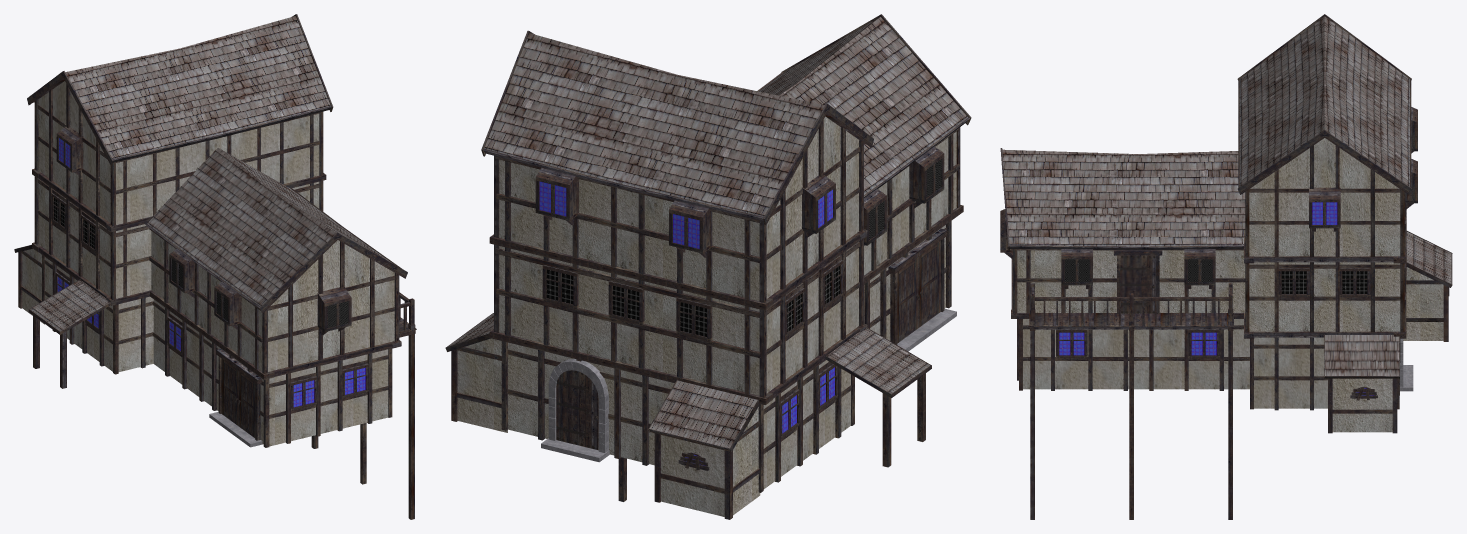
The model's file is thouse07.dae.
The picture shows the model from 3 angles, left to right: view 1: azimuth 30°, elevation 25°; view 2: azimuth 150°, elevation 25°; view 3: azimuth 270°, elevation 25°; orthographic projection. The views are drawn at different scales.
Visible parts, largest first — view 1: House2_Roof, House1_Roof, House1_Level2, House2_Level3, House1_Level1, House2_Level3_Beams, House1_Level2_Beams, House2_Level2, House1_Level1_Beams, House2_Level1, House2_Level2_Beams, House2_Level1_Beams (+19 smaller); view 2: House2_Roof, House2_Level3, House2_Level2, House1_Roof, House2_Level2_Beams, House2_Level1, House2_Level3_Beams, House2_Level1_Beams, BuildingExtensions4_001, BuildingExtensions4Roof_001, Roof2Outer, BuildingExtensions4 (+34 smaller); view 3: House1_Roof, House2_Roof, House2_Level3, House1_Level1, House1_Level2, House2_Level2, House2_Level1, House2_Level2_Beams, House2_Level3_Beams, BuildingExtensions4Roof, Balcony4, House1_Level1_Beams (+30 smaller).
Boxes of the visible parts, x1,y1,x2,y2 form: House2_Roof: (65, 16, 330, 159); House1_Roof: (147, 148, 393, 306); House1_Level2: (151, 231, 394, 371); House2_Level3: (38, 81, 319, 224); House1_Level1: (153, 299, 388, 446); House2_Level3_Beams: (34, 84, 323, 226); House1_Level2_Beams: (149, 228, 399, 373); House2_Level2: (38, 179, 319, 298); House1_Level1_Beams: (153, 301, 392, 447); House2_Level1: (45, 257, 153, 371); House2_Level2_Beams: (34, 176, 323, 299); House2_Level1_Beams: (42, 255, 152, 374); House2_Roof: (484, 33, 824, 216); House2_Level3: (499, 116, 859, 301); House2_Level2: (499, 242, 858, 395); House1_Roof: (759, 17, 967, 194); House2_Level2_Beams: (494, 239, 863, 397); House2_Level1: (508, 342, 850, 489); House2_Level3_Beams: (494, 120, 863, 302); House2_Level1_Beams: (501, 341, 854, 492); BuildingExtensions4_001: (661, 407, 760, 516); BuildingExtensions4Roof_001: (649, 380, 757, 448); Roof2Outer: (827, 328, 929, 393); BuildingExtensions4: (457, 338, 507, 432); House1_Roof: (1002, 149, 1245, 246); House2_Roof: (1239, 16, 1409, 186); House2_Level3: (1249, 138, 1400, 256); House1_Level1: (1023, 319, 1249, 389); House1_Level2: (1017, 250, 1245, 312); House2_Level2: (1249, 262, 1400, 331); House2_Level1: (1254, 337, 1327, 408); House2_Level2_Beams: (1245, 262, 1405, 332); House2_Level3_Beams: (1245, 145, 1405, 256); BuildingExtensions4Roof: (1325, 335, 1399, 376); Balcony4: (1029, 283, 1233, 326); House1_Level1_Beams: (1017, 319, 1249, 390).
Size of the model in its own units: 11.38 by 14.35 by 14.09.
29 materials, 29 textured.
